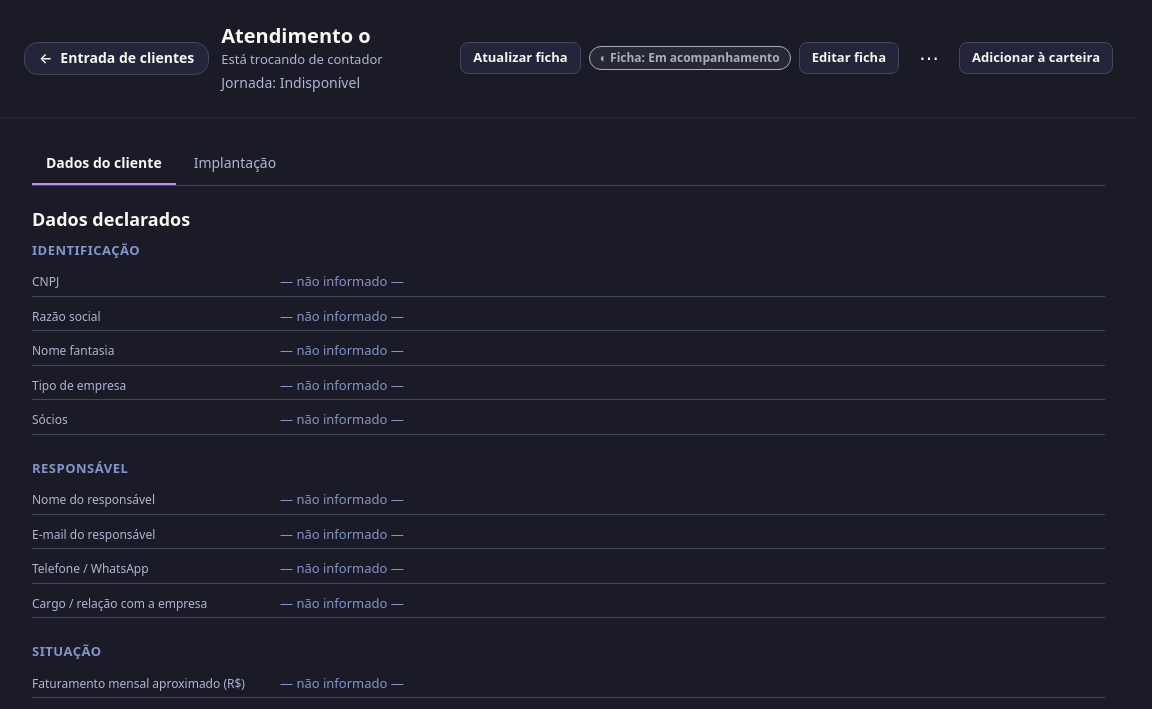
Test: detalhe distingue assinatura histórica de recebimento confirmado (true)
The image size is (1152, 709).
Click the button "Implantação" at (235, 163), box [180,142,290,184]
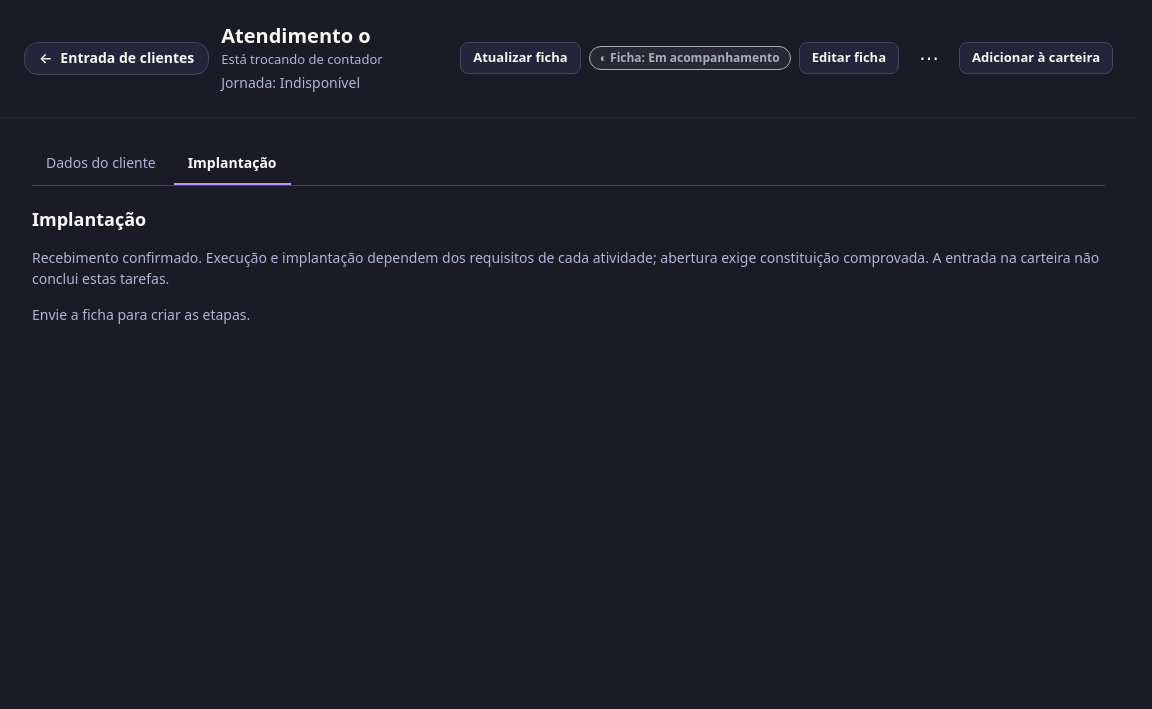
Now the text "Recebimento confirmado." is shown, box [32,248,202,266]
